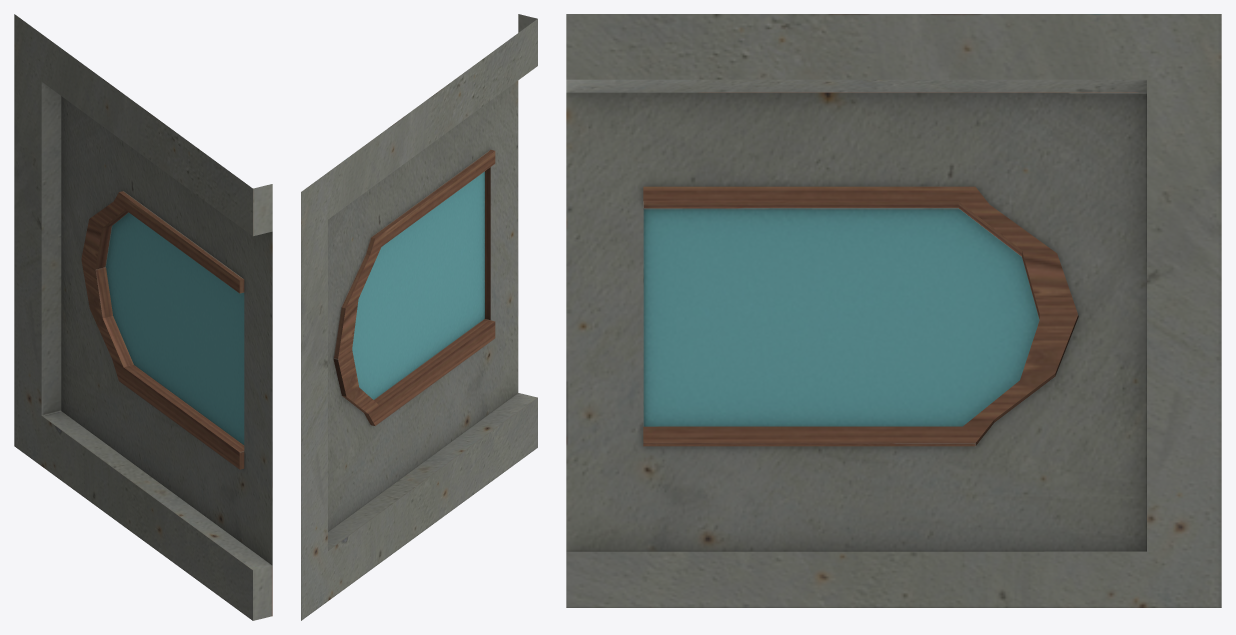
The model's file is SingleWIndow15.fbx.
3 views of the same model, side by side, from view 1: azimuth 30°, elevation 25°; view 2: azimuth 150°, elevation 25°; view 3: azimuth 270°, elevation 25° (orthographic). The views are drawn at different scales.
Parts seen in each view (by area): view 1: Plane.002; view 2: Plane.002; view 3: Plane.002.
Boxes of the visible parts, <box> form: Plane.002: <box>14,14,272,620</box>; Plane.002: <box>301,14,537,620</box>; Plane.002: <box>566,14,1221,607</box>.
Size of the model in its own units: 6.12 by 100 by 100.
